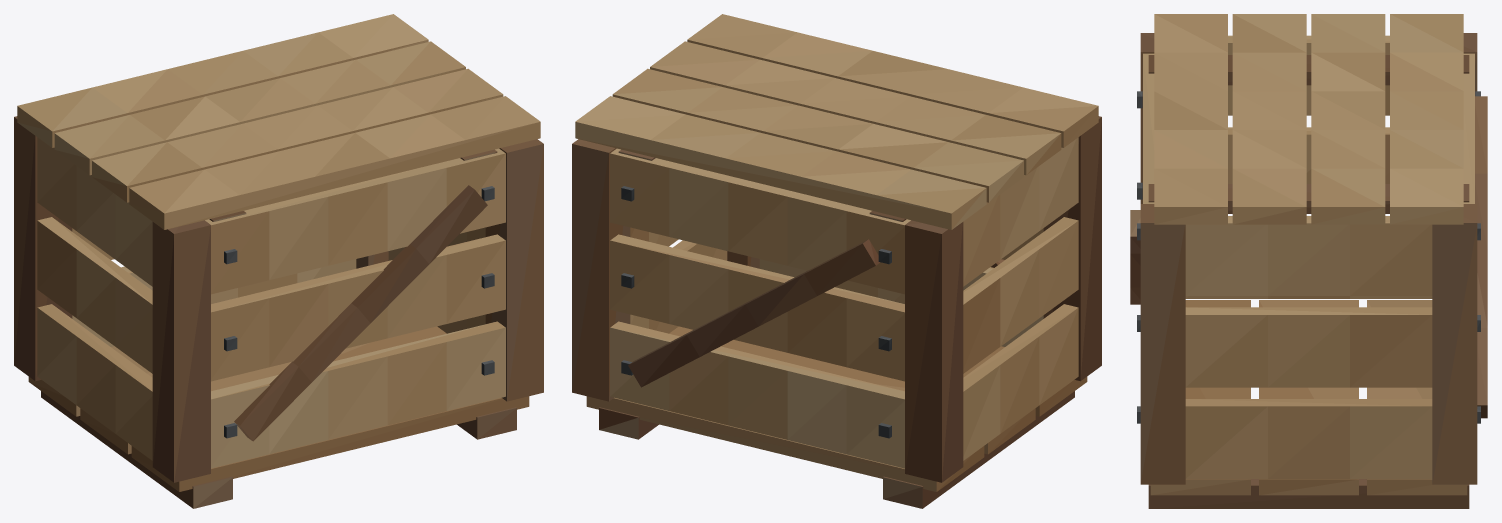
Rendered from crate-closed.glb.
3 views of the same model, side by side, from view 1: azimuth 30°, elevation 25°; view 2: azimuth 150°, elevation 25°; view 3: azimuth 270°, elevation 25° (orthographic). The views are drawn at different scales.
Parts seen in each view (by area): view 1: crate_body, lid, hardware; view 2: crate_body, lid, hardware; view 3: crate_body, lid, hardware.
Boxes of the visible parts, <box> form: crate_body: <box>14,116,543,508</box>; lid: <box>17,14,540,229</box>; hardware: <box>224,186,494,438</box>; crate_body: <box>572,116,1101,508</box>; lid: <box>575,14,1098,229</box>; hardware: <box>621,186,891,438</box>; crate_body: <box>1130,33,1487,508</box>; lid: <box>1148,14,1469,224</box>; hardware: <box>1137,91,1480,423</box>.
Size of the model in its own units: 0.57 by 0.434 by 0.446.
